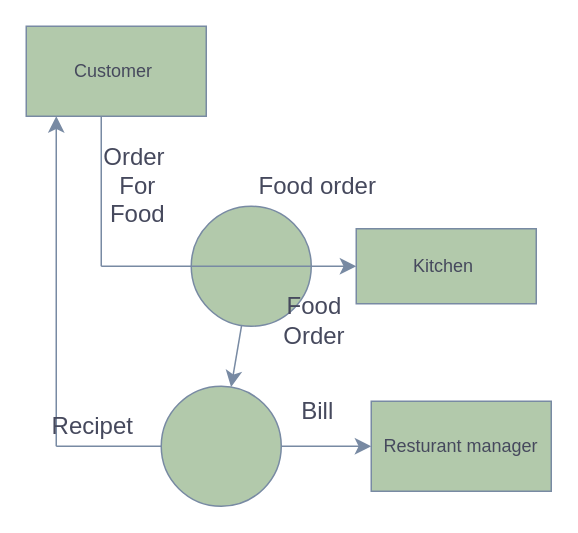
This 578x533 diagram has some shape labels left out. Each missing label, with the centre of its shape:
"1.1 Get on order" goes at [250,265].
"Prepare the bill" goes at [220,445].
